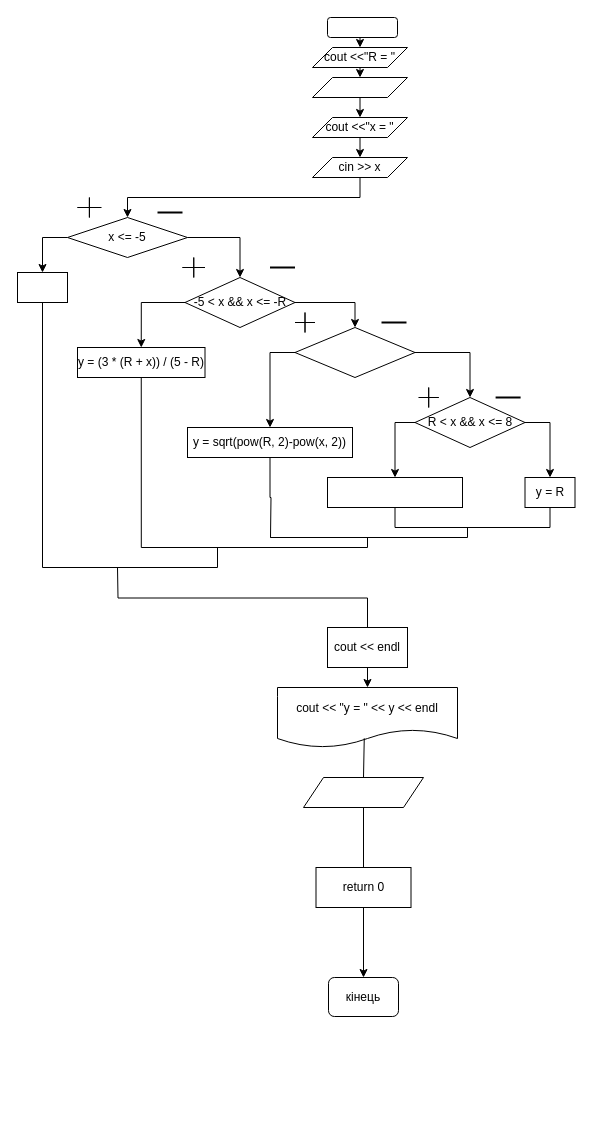
This 593x1143 diagram has some shape labels left out. Each missing label, with the box of its shape:
-R < x && x <= R: (294, 326, 415, 378)
cin >> R: (312, 76, 408, 98)
cin.get(): (302, 776, 424, 808)
y = (R * (x - R)) / (8 - R): (326, 476, 462, 508)
y = -3: (16, 272, 68, 302)
початок: (326, 16, 398, 38)
